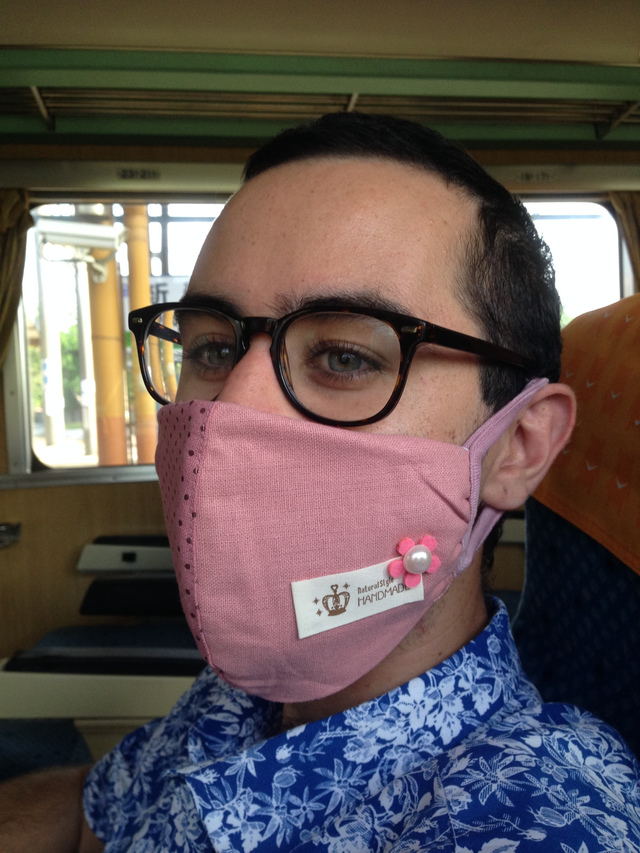mask: (160, 405, 472, 709)
